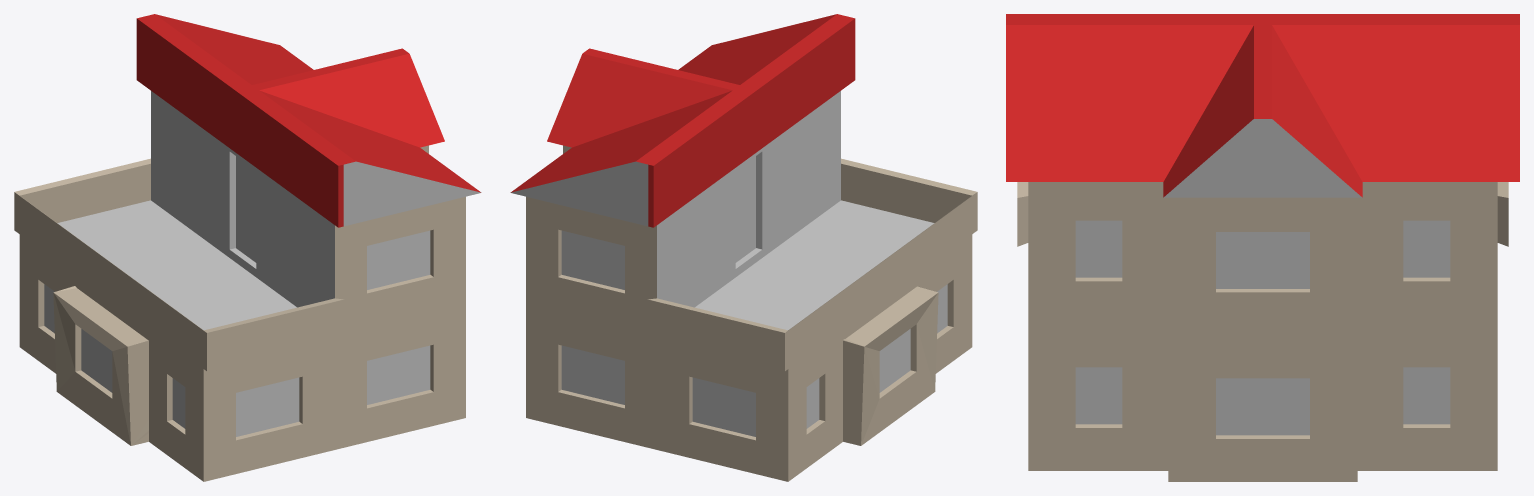
File: house4.fbx
3 views of the same model, side by side, from view 1: azimuth 30°, elevation 25°; view 2: azimuth 150°, elevation 25°; view 3: azimuth 270°, elevation 25° (orthographic). The views are drawn at different scales.
Parts seen in each view (by area): view 1: house_2_v_1; view 2: house_2_v_1; view 3: house_2_v_1.
Boxes of the visible parts, <box> form: house_2_v_1: <box>14,14,481,481</box>; house_2_v_1: <box>510,14,977,481</box>; house_2_v_1: <box>1006,14,1519,481</box>.
Bounding box in the file's own units: 110 × 97 × 121.
